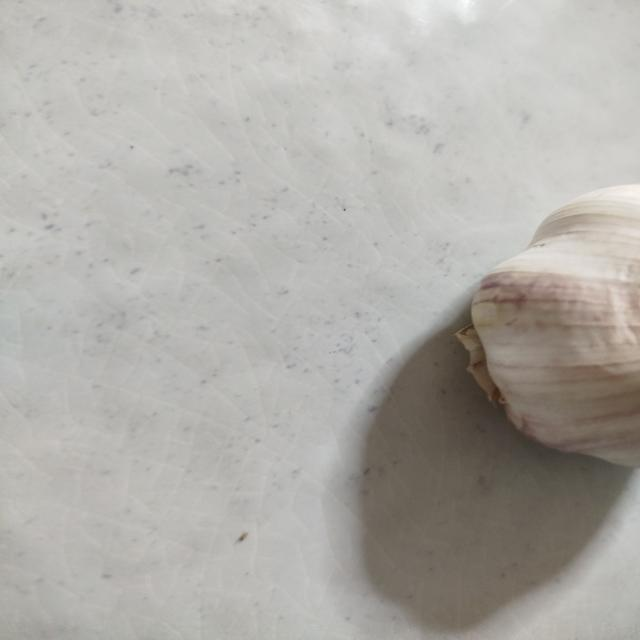garlic: (454, 183, 639, 469)
